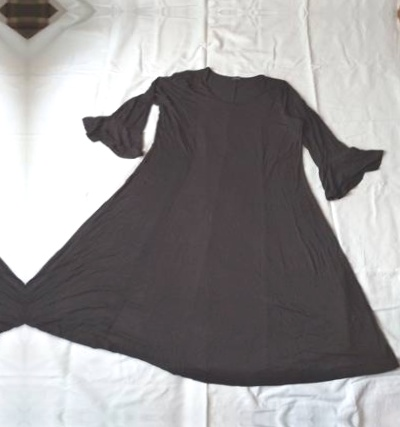Dress: (34, 64, 400, 388), (0, 60, 17, 384)
